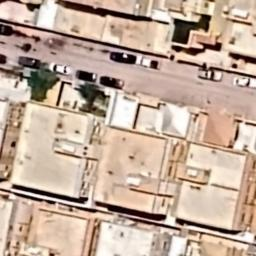pickup: (198, 69, 222, 81)
sedan: (49, 62, 72, 76), (110, 52, 136, 64), (100, 76, 124, 88), (18, 56, 40, 68), (76, 70, 97, 82), (0, 24, 12, 35)
unknown: (136, 55, 160, 69), (234, 77, 256, 87)
